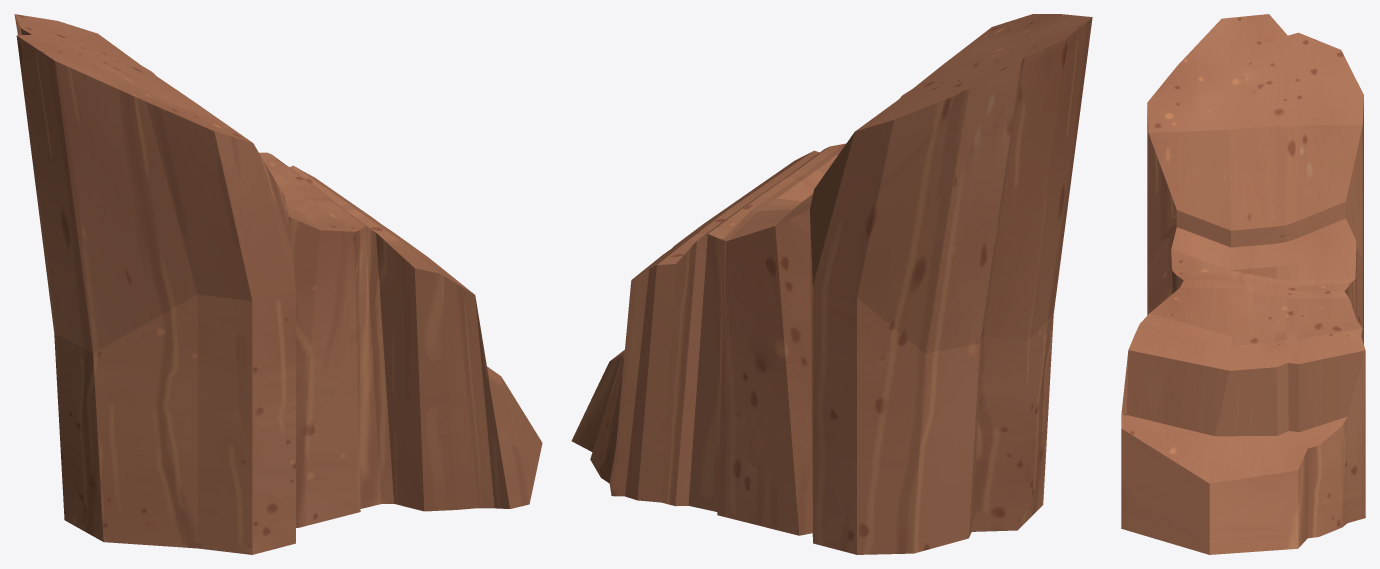
The model's file is big_rock06.fbx.
The picture shows the model from 3 angles, left to right: view 1: azimuth 30°, elevation 25°; view 2: azimuth 150°, elevation 25°; view 3: azimuth 270°, elevation 25°; orthographic projection. The views are drawn at different scales.
Parts seen in each view (by area): view 1: big_rock06; view 2: big_rock06; view 3: big_rock06.
Boxes of the visible parts, left/top/right/bottom form: big_rock06: left=14, top=14, right=542, bottom=554; big_rock06: left=571, top=14, right=1092, bottom=554; big_rock06: left=1121, top=14, right=1365, bottom=554.
Bounding box in the file's own units: 2.65 × 1.56 × 2.58.
